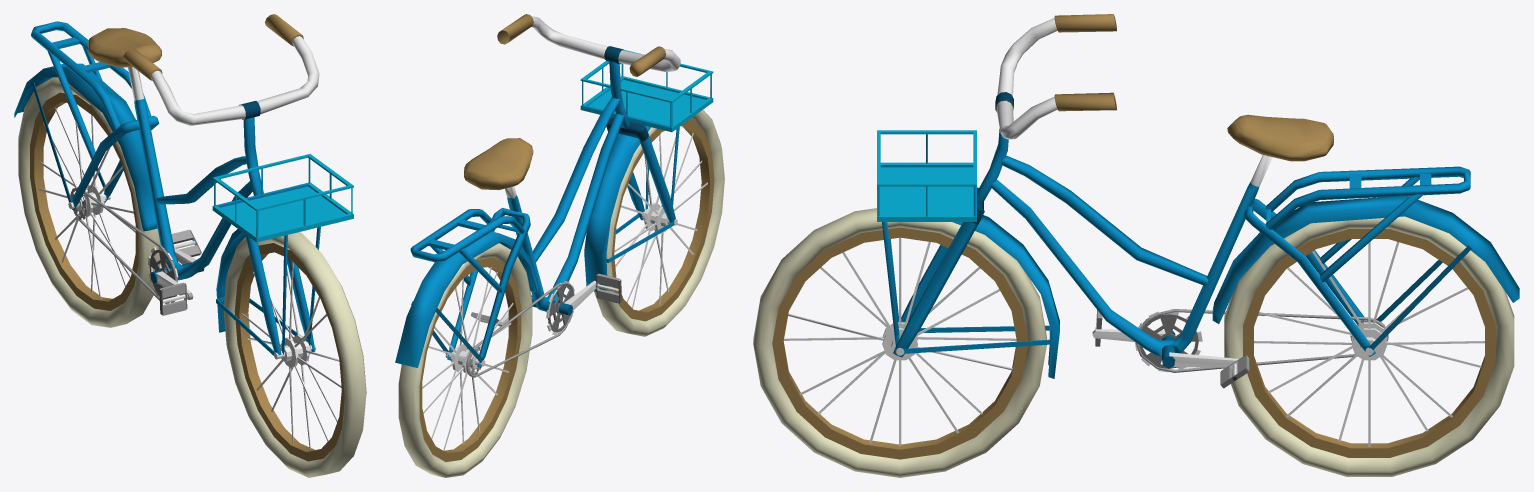
File: BiciPaseo.fbx
The picture shows the model from 3 angles, left to right: view 1: azimuth 30°, elevation 25°; view 2: azimuth 150°, elevation 25°; view 3: azimuth 270°, elevation 25°; orthographic projection. The views are drawn at different scales.
Parts seen in each view (by area): view 1: Bike_LOD00; view 2: Bike_LOD00; view 3: Bike_LOD00.
Part boxes in pixels (bbox=[...]): Bike_LOD00: bbox=[14, 14, 366, 477]; Bike_LOD00: bbox=[395, 14, 724, 477]; Bike_LOD00: bbox=[753, 14, 1519, 477].
Size of what is drawn, in the model's own units: 46.67 by 106 by 175.
